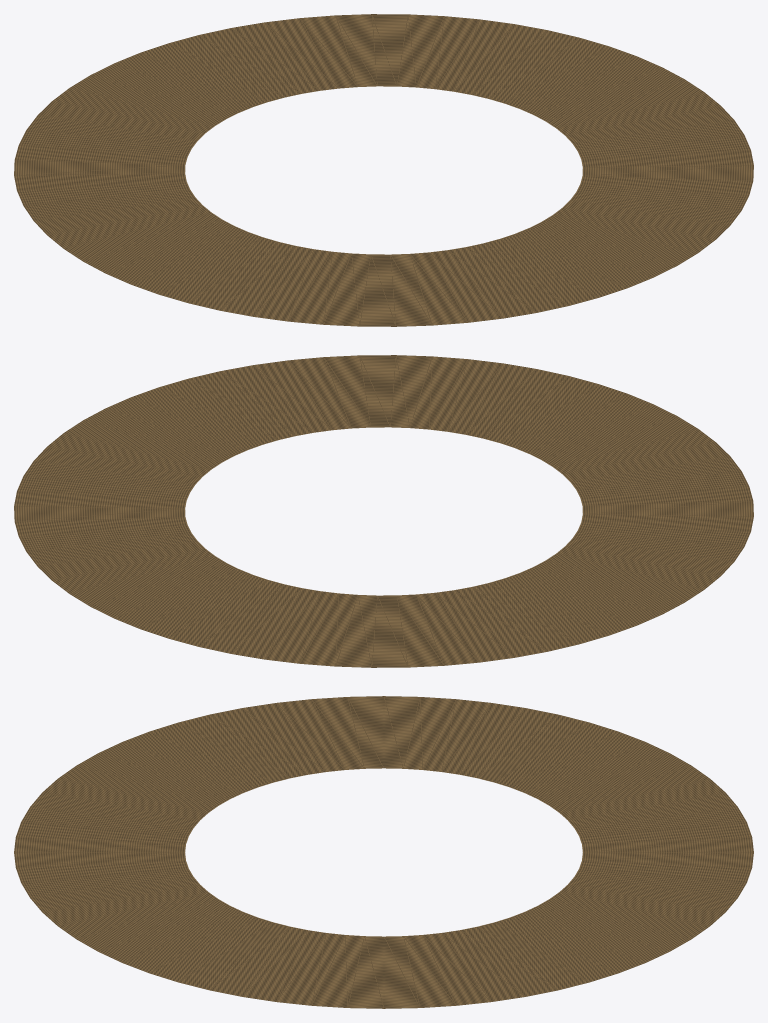
The model's file is Saturn_Rings_LOD1.fbx.
The picture shows the model from 3 angles, top to bottom: view 1: azimuth 30°, elevation 25°; view 2: azimuth 150°, elevation 25°; view 3: azimuth 270°, elevation 25°; orthographic projection.
Visible parts, largest first — view 1: Saturn_Rings_LOD1; view 2: Saturn_Rings_LOD1; view 3: Saturn_Rings_LOD1.
Part boxes in pixels (x1,y1,x2,y2): Saturn_Rings_LOD1: (14, 14, 753, 326); Saturn_Rings_LOD1: (14, 355, 753, 667); Saturn_Rings_LOD1: (14, 696, 753, 1008).
Bounding box in the file's own units: 454 × 7.4e-05 × 454.
